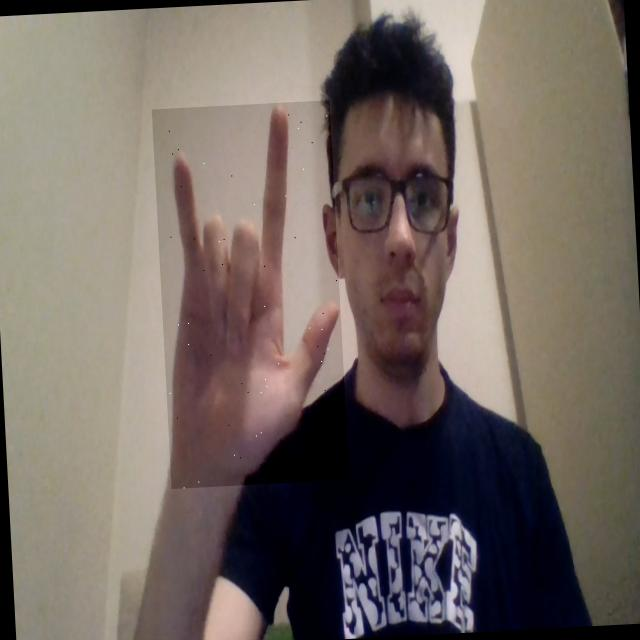iloveyou: (152, 100, 350, 489)
